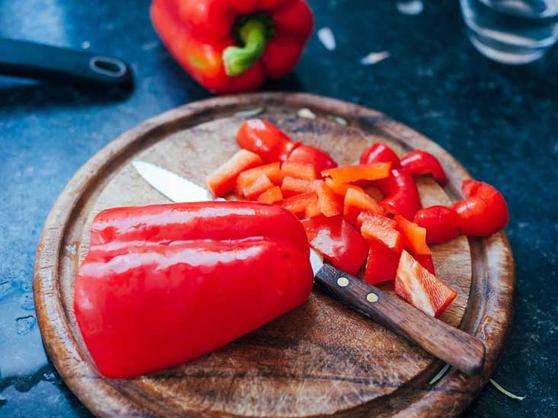pepper: (83, 198, 314, 378)
